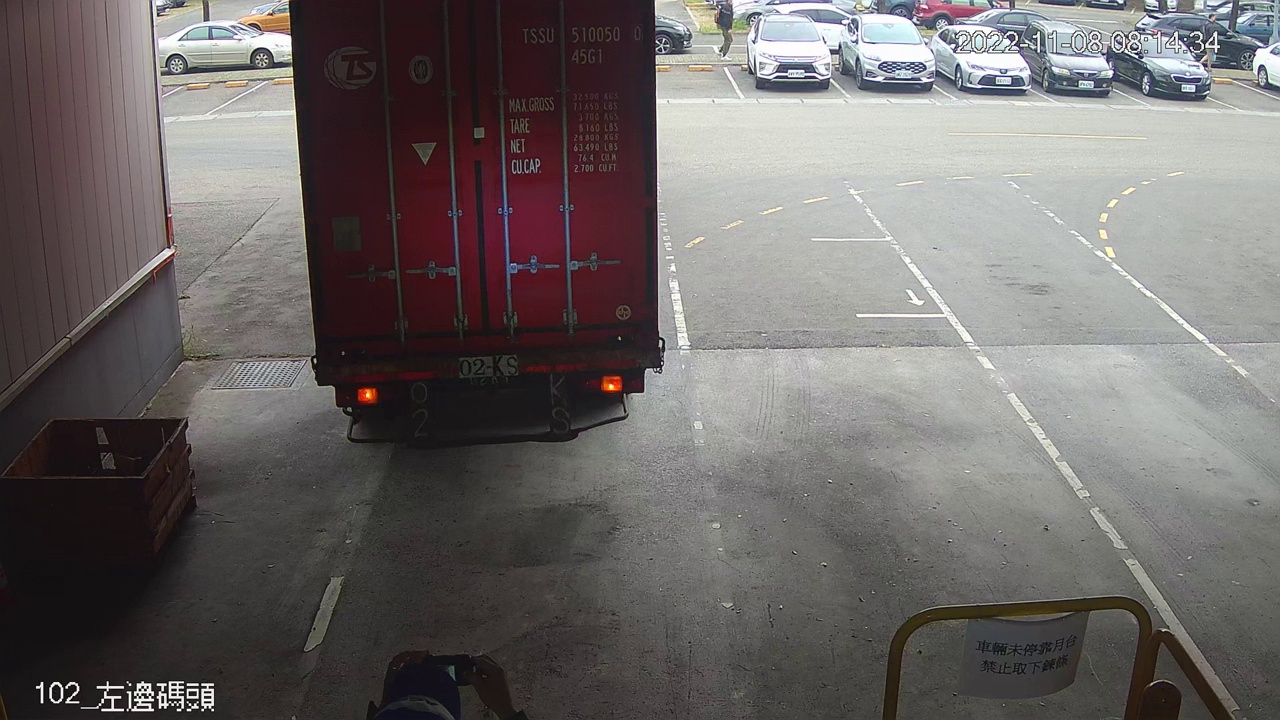container: (516, 18, 648, 72)
